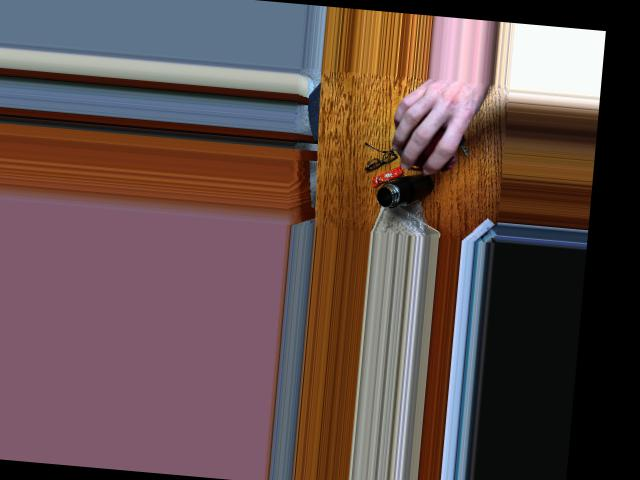onion: (393, 112, 461, 164)
